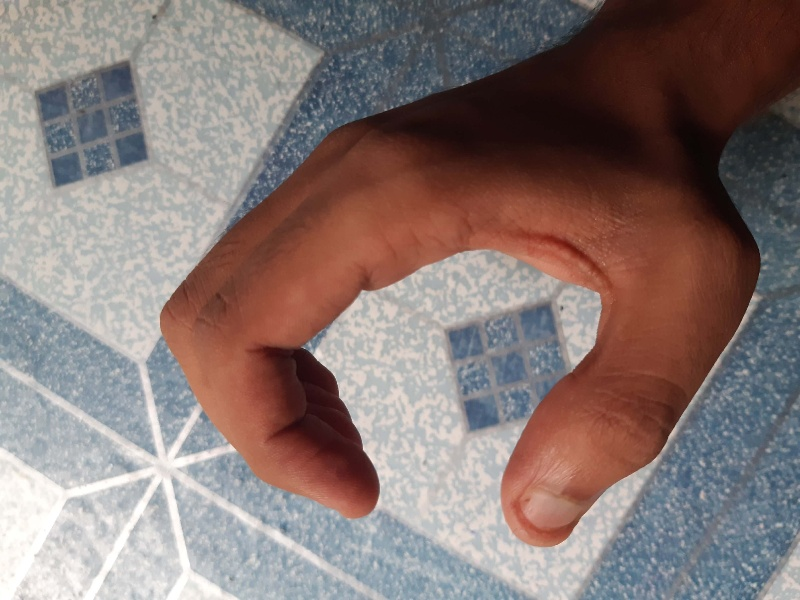one: (146, 102, 773, 569)
